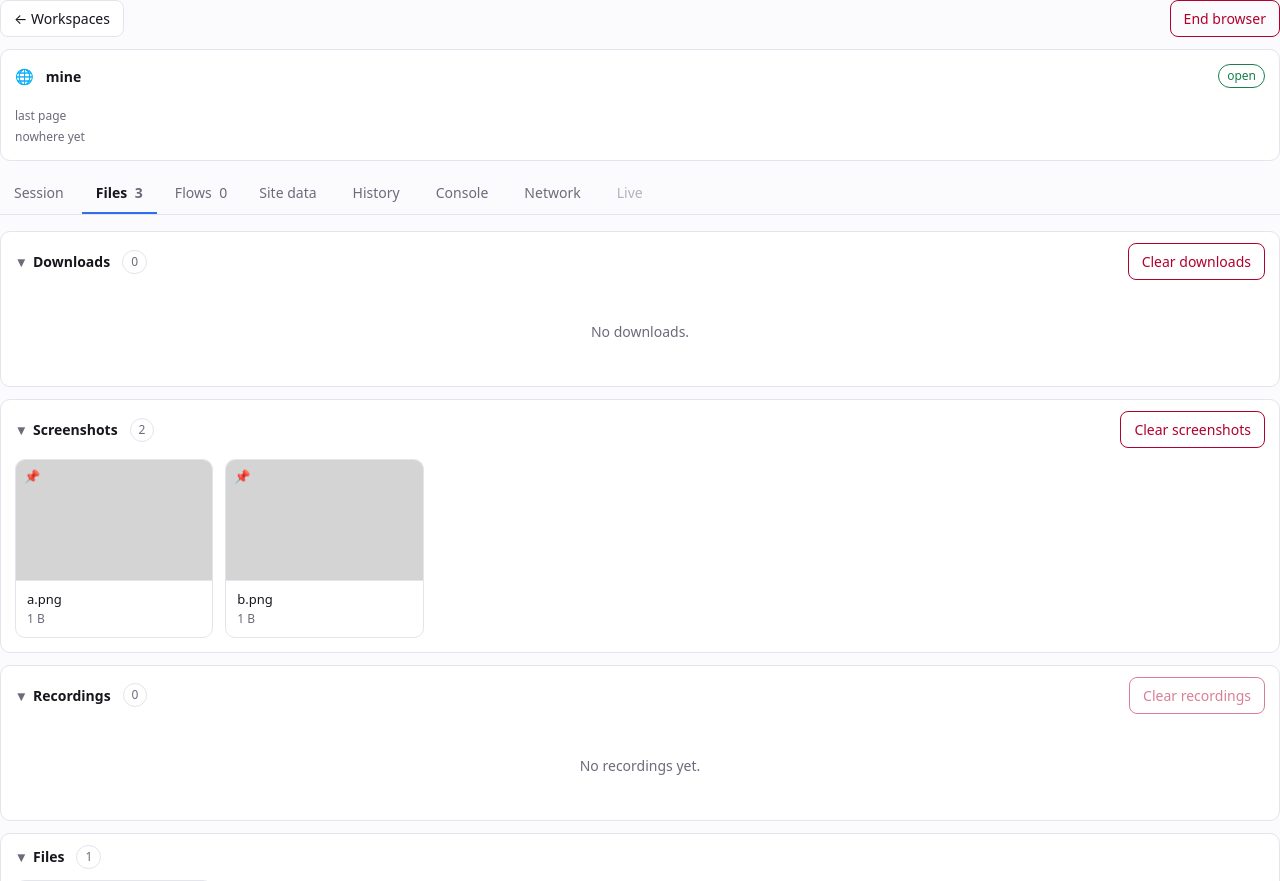
Clear downloads with nothing downloaded says so, and reads Clear (F3)
This screenshot has width=1280, height=881.
What coordinates should you click on to do the following:
click the button with id "clearDownloads"
I would click on:
 (1196, 262)
Its box is 1128,243 -> 1265,280.
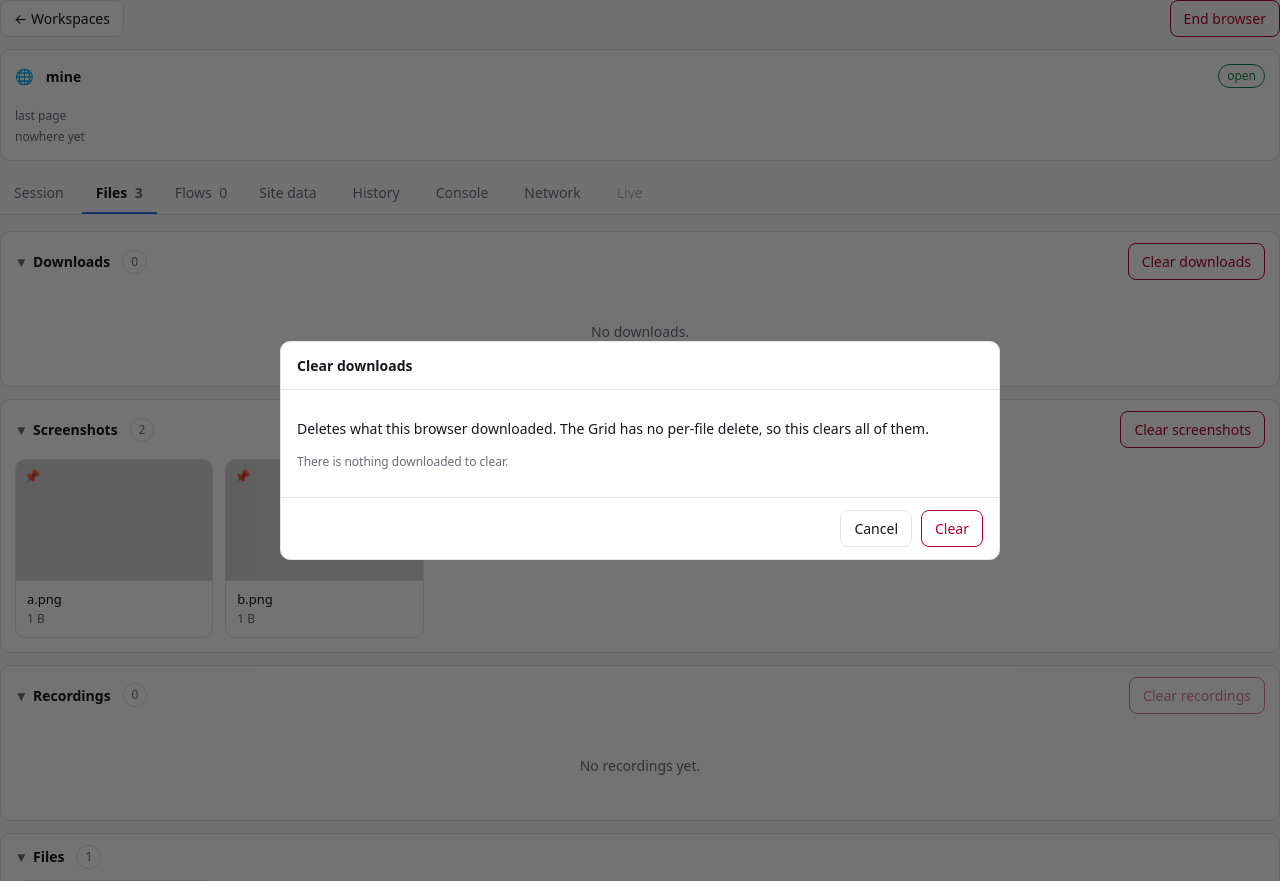
Result: the element with class "modal" shows "There is nothing downloaded to clear." at 297,452 -> 508,470
